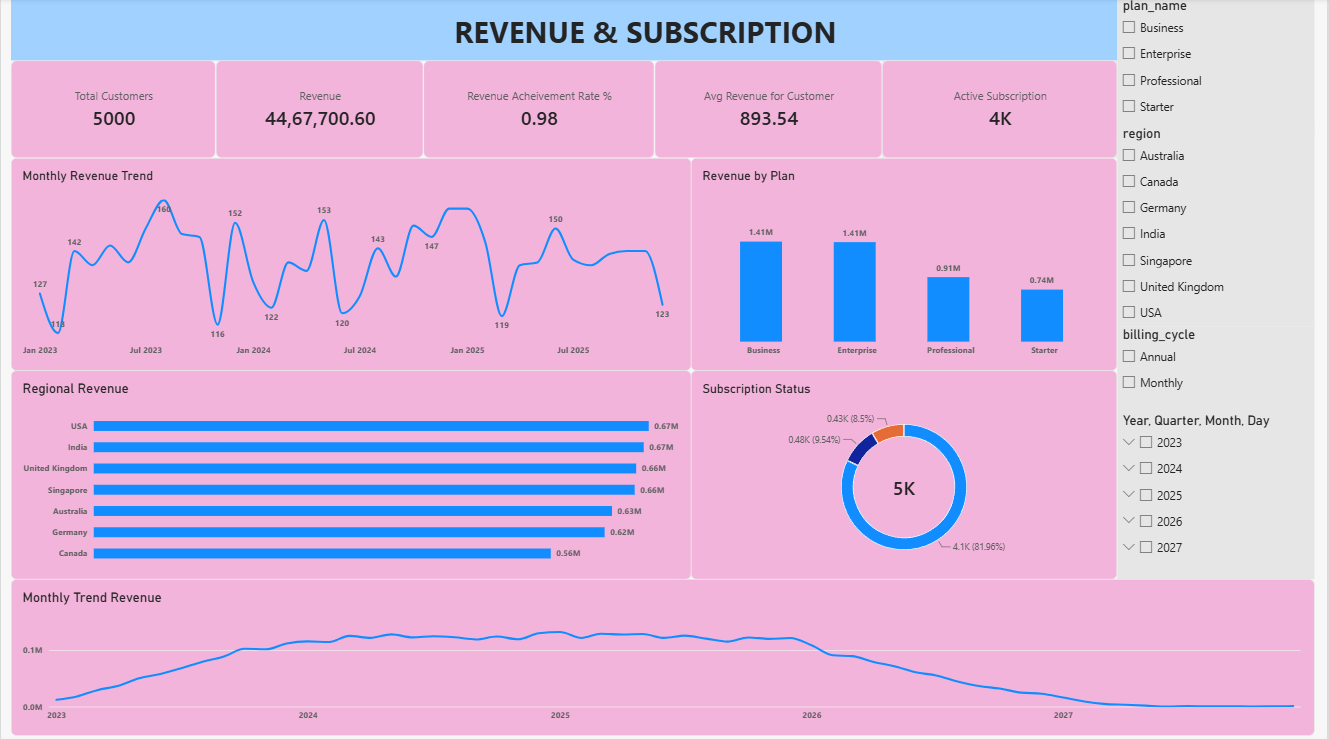

Layout of this report page (visuals, bound fields, positions):
{"tool":"powerbi","page":{"name":"Revenue & Subscriptions","canvas":[1920,1080],"ordinal":1},"visuals":[{"type":"textbox","box":[14.5,0,1208.9,90.5],"z":0},{"type":"lineChart","title":"Monthly Trend Revenue","fields":{"Y":["flowstack_analytics invoices.Revenue"],"Category":["flowstack_analytics invoices.invoice_date.Variation.Date Hierarchy.Year","flowstack_analytics invoices.invoice_date.Variation.Date Hierarchy.Month"]},"box":[14.5,841.5,1887.5,238.9],"z":1000},{"type":"lineChart","title":"Monthly Revenue Trend","fields":{"Y":["Count(flowstack_analytics subscriptions.subscription_id)"],"Category":["flowstack_analytics subscriptions.subscription_start.Variation.Date Hierarchy.Year","flowstack_analytics subscriptions.subscription_start.Variation.Date Hierarchy.Month"]},"box":[14.5,231.6,984.5,307.6],"z":2000},{"type":"slicer","fields":{"Values":["flowstack_analytics plans.plan_name"]},"box":[1616,105,285.9,177.3],"z":3000},{"type":"slicer","fields":{"Values":["flowstack_analytics account_managers.region"]},"box":[1635.7,303.6,285.9,296.8],"z":4000},{"type":"slicer","fields":{"Values":["flowstack_analytics invoices.invoice_date.Variation.Date Hierarchy.Year","flowstack_analytics invoices.invoice_date.Variation.Date Hierarchy.Quarter","flowstack_analytics invoices.invoice_date.Variation.Date Hierarchy.Month","flowstack_analytics invoices.invoice_date.Variation.Date Hierarchy.Day"]},"box":[1616,600.8,285.9,240.7],"z":5000},{"type":"columnChart","title":"Revenue by Plan","fields":{"Y":["flowstack_analytics invoices.Revenue"],"Category":["flowstack_analytics plans.plan_name"]},"box":[998.9,231.6,617.1,307.6],"z":6000},{"type":"clusteredBarChart","title":"Regional Revenue","fields":{"Y":["flowstack_analytics invoices.Revenue"],"Category":["flowstack_analytics customers.region"]},"box":[14.5,539.3,984.5,302.2],"z":7000},{"type":"donutChart","title":"Subscription Status","fields":{"Y":["Count(flowstack_analytics subscriptions.subscription_id)"],"Category":["flowstack_analytics subscriptions.subscription_status"]},"box":[998.9,539.3,617.1,302.2],"z":8000},{"type":"cardVisual","fields":{"Data":["flowstack_analytics customers.Total Customers"]},"box":[14.5,90.5,296.8,141.2],"z":9000},{"type":"cardVisual","fields":{"Data":["flowstack_analytics invoices.Revenue"]},"box":[311.3,90.5,300.4,141.2],"z":10000},{"type":"cardVisual","fields":{"Data":["flowstack_analytics subscriptions.Revenue Acheivement Rate %"]},"box":[611.7,90.5,334.8,141.2],"z":11000},{"type":"cardVisual","fields":{"Data":["flowstack_analytics invoices.Avg Revenue for Customer"]},"box":[946.5,90.5,329.4,141.2],"z":12000},{"type":"cardVisual","fields":{"Data":["flowstack_analytics subscriptions.Active Subscription"]},"box":[1275.8,90.5,340.2,141.2],"z":13000},{"type":"pageNavigator","box":[1223.3,0,696.7,90.5],"z":14000}]}

Visuals, with their boxes on the page's 1920x1080 design canvas (x1, y1, x2, y2). These are canvas units, not pixel positions in the 1329x739 screenshot, which may show the page scaled, cropped or inside an application window:
textbox: 14:0:1223:90
"Monthly Trend Revenue" lineChart: 14:842:1902:1080
"Monthly Revenue Trend" lineChart: 14:232:999:539
slicer - flowstack_analytics plans.plan_name: 1616:105:1902:282
slicer - flowstack_analytics account_managers.region: 1636:304:1922:600
slicer - flowstack_analytics invoices.invoice_date.Variation.Date Hierarchy.Year x flowstack_analytics invoices.invoice_date.Variation.Date Hierarchy.Quarter: 1616:601:1902:842
"Revenue by Plan" columnChart: 999:232:1616:539
"Regional Revenue" clusteredBarChart: 14:539:999:842
"Subscription Status" donutChart: 999:539:1616:842
cardVisual - flowstack_analytics customers.Total Customers: 14:90:311:232
cardVisual - flowstack_analytics invoices.Revenue: 311:90:612:232
cardVisual - flowstack_analytics subscriptions.Revenue Acheivement Rate %: 612:90:946:232
cardVisual - flowstack_analytics invoices.Avg Revenue for Customer: 946:90:1276:232
cardVisual - flowstack_analytics subscriptions.Active Subscription: 1276:90:1616:232
pageNavigator: 1223:0:1920:90
